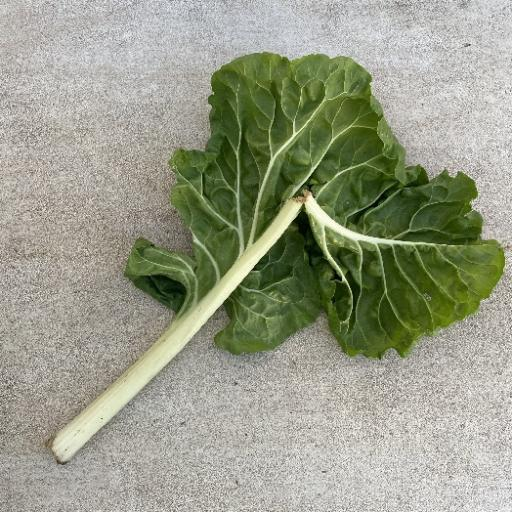Waste: (46, 50, 505, 465)
